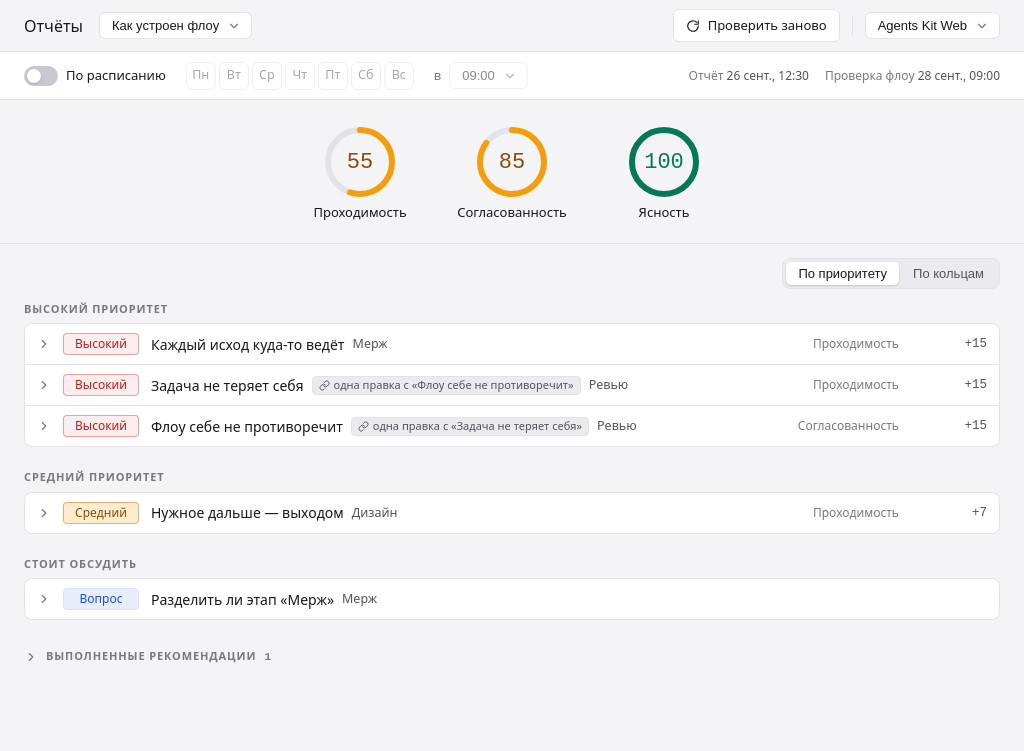
Test: формулировка рекомендации начинается с заглавной, а у выполненных рекомендаций стоит их число, как на макете
Click the text "Каждый исход куда-то ведёт". click: {"x": 248, "y": 344}
box: [151, 334, 344, 355]
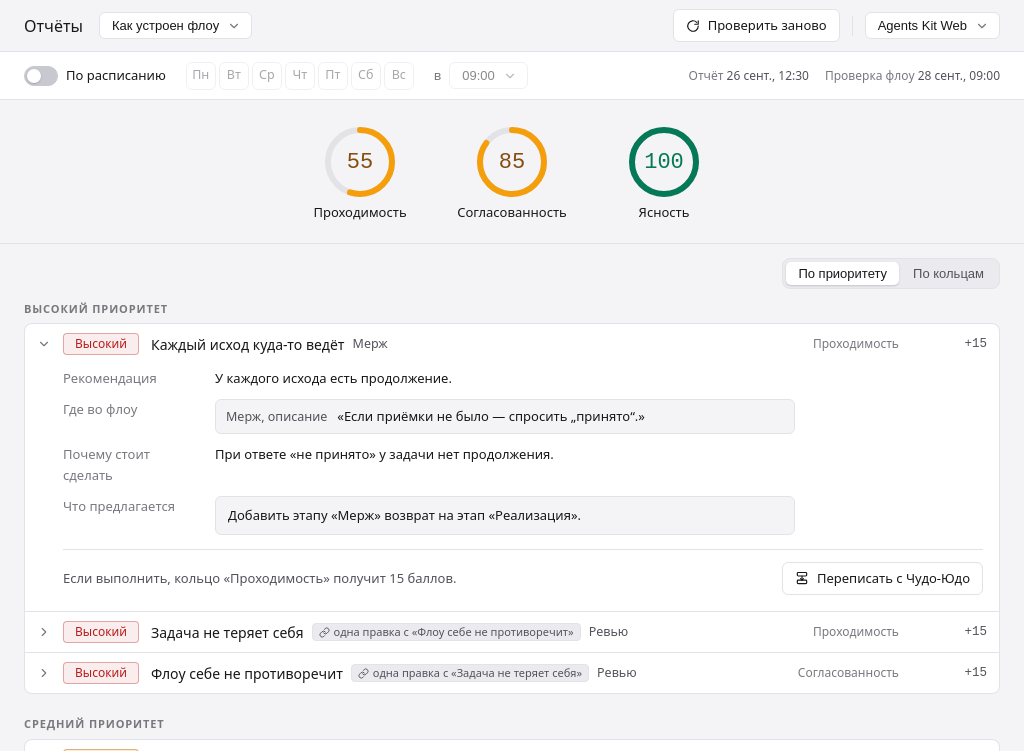
Expected: the text "У каждого исхода есть продолжение." is shown, [215, 369, 452, 387]
